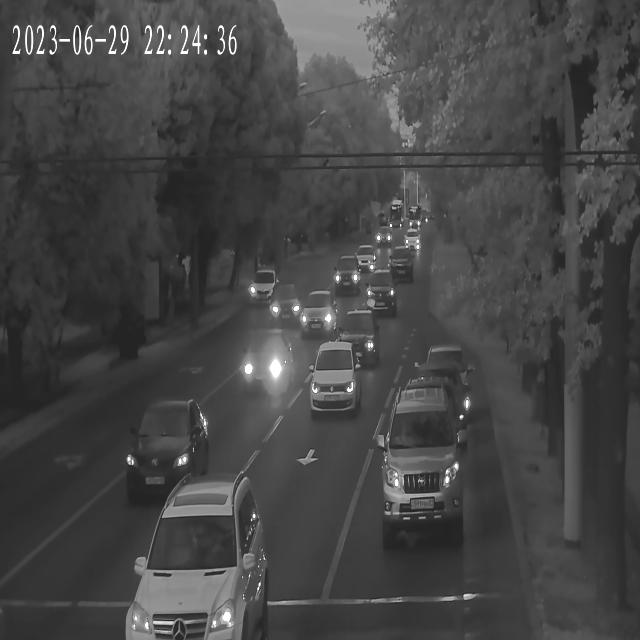Car: (134, 482, 272, 639), (376, 388, 463, 528), (118, 397, 212, 500), (147, 477, 270, 522), (399, 369, 470, 433), (309, 342, 365, 418), (237, 337, 284, 394), (416, 345, 471, 393), (334, 312, 380, 369), (295, 294, 339, 343), (359, 270, 396, 316), (268, 285, 302, 325), (329, 258, 364, 295), (248, 271, 280, 306), (384, 248, 414, 282), (352, 246, 376, 270), (405, 232, 423, 250), (374, 230, 392, 247)
